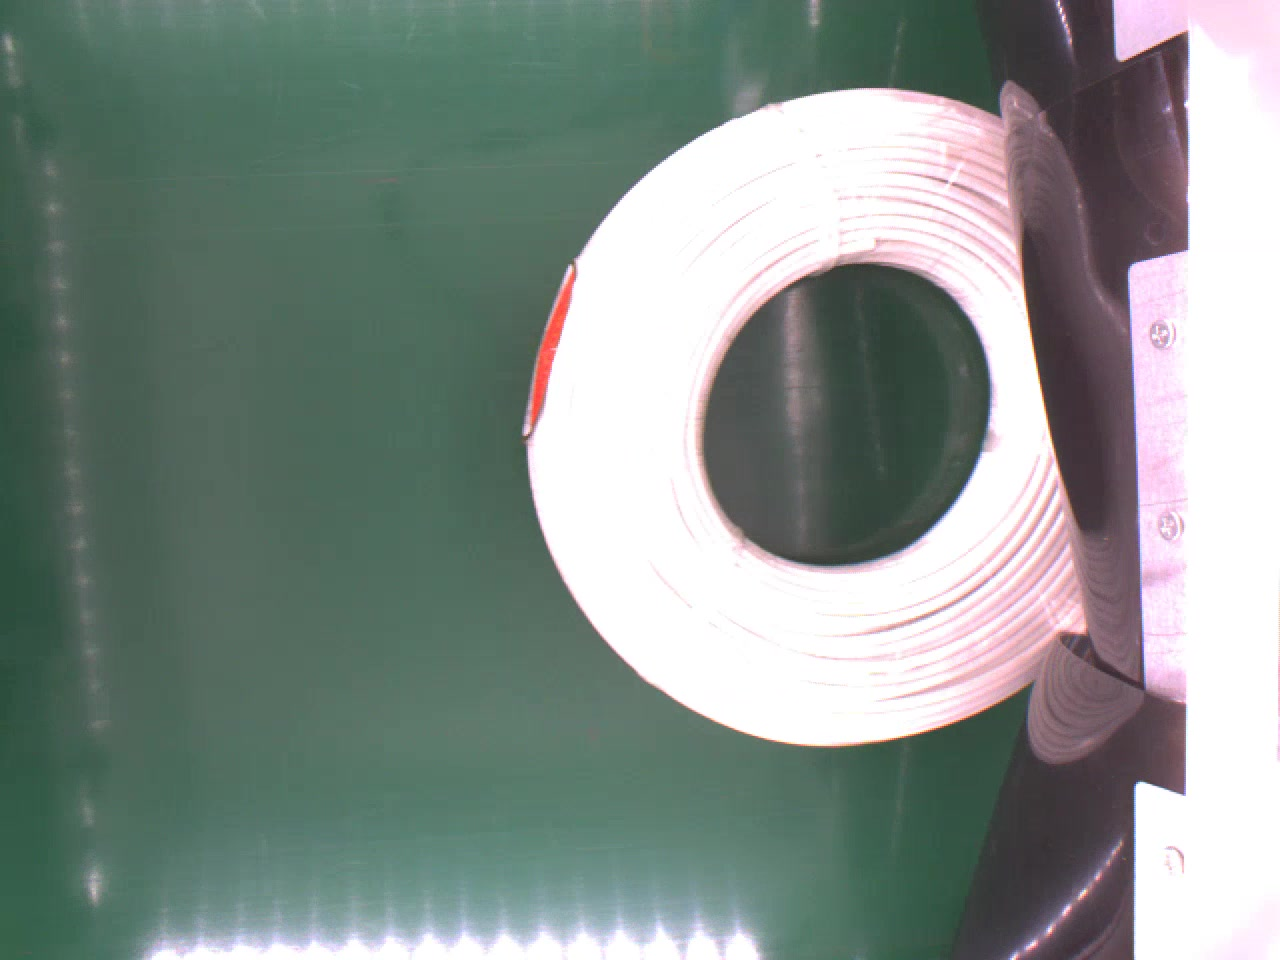white: (522, 86, 1081, 763)
